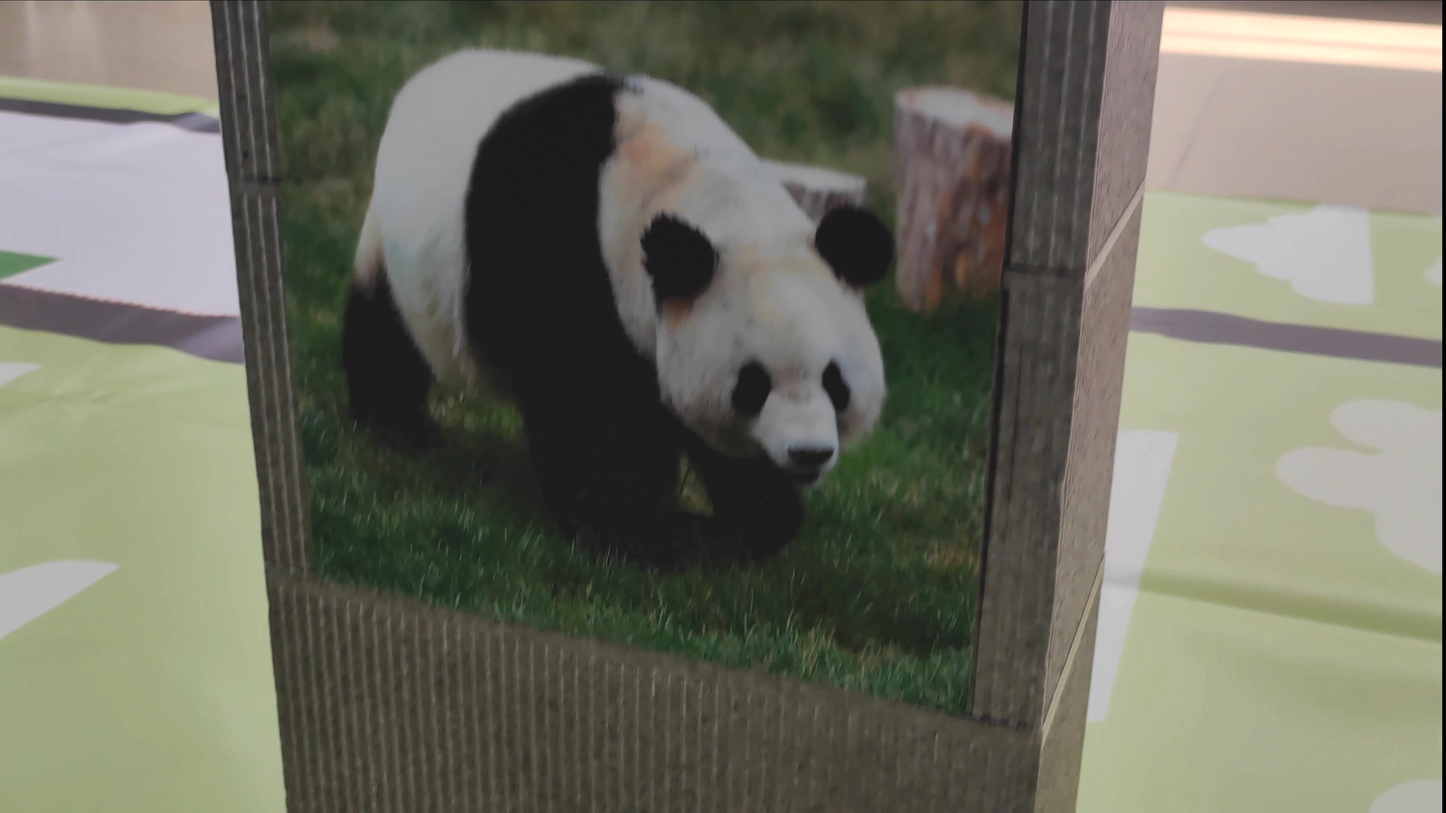panda: (332, 44, 897, 581)
